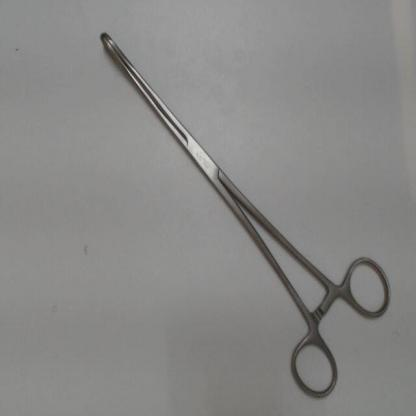Sponge Forceps: (94, 26, 398, 406)
